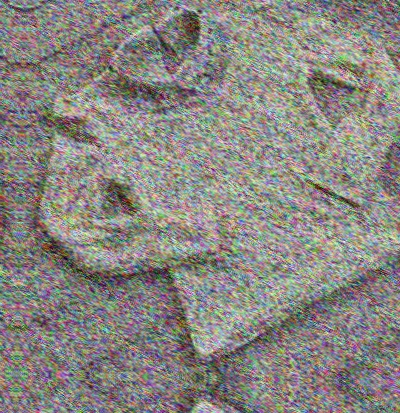Blouse: (40, 8, 400, 346), (31, 412, 400, 413), (0, 0, 1, 337)
